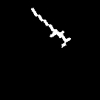double_crochet: (31, 8, 70, 46)
